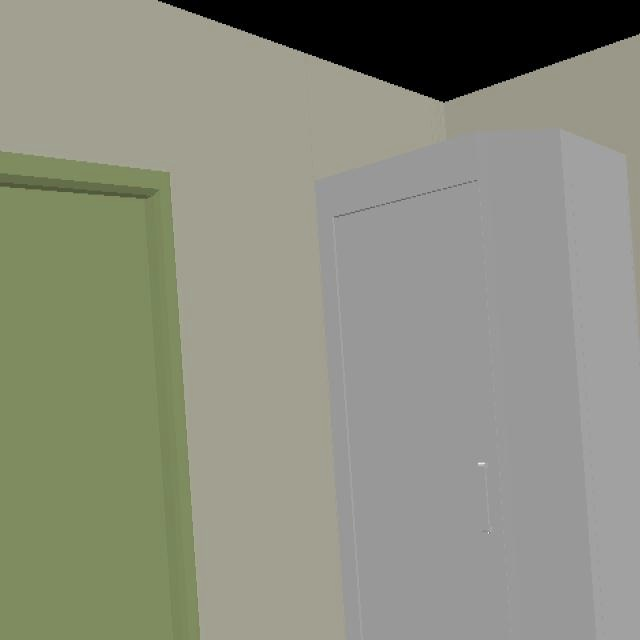shower: (314, 128, 640, 640)
